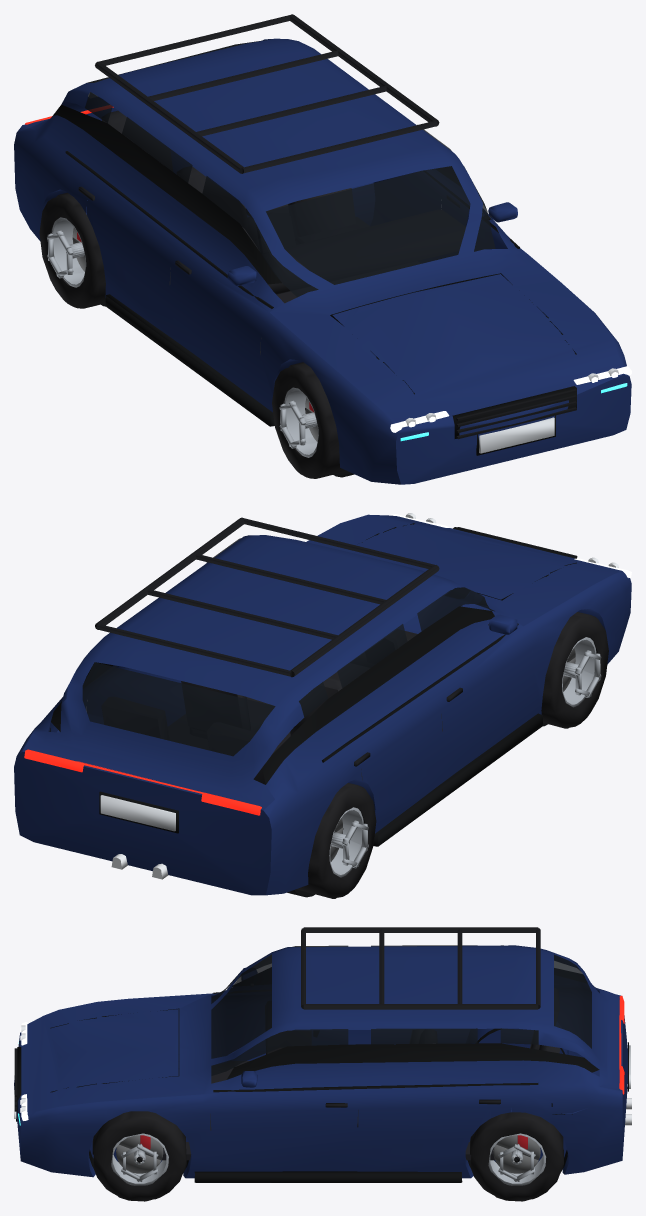
File: tuner-lod.glb
3 views of the same model, one above another, from view 1: azimuth 30°, elevation 25°; view 2: azimuth 150°, elevation 25°; view 3: azimuth 270°, elevation 25° (orthographic). The views are drawn at different scales.
Parts seen in each view (by area): view 1: Body, WheelFL, WheelRL; view 2: Body, WheelRL, WheelFL; view 3: Body, WheelFR, WheelRR.
Part boxes in pixels (x1,y1,x2,y2): Body: [14, 14, 631, 484]; WheelFL: [272, 362, 347, 478]; WheelRL: [39, 192, 105, 308]; Body: [14, 513, 631, 897]; WheelRL: [296, 783, 376, 898]; WheelFL: [541, 612, 608, 728]; Body: [14, 927, 631, 1182]; WheelFR: [92, 1111, 186, 1201]; WheelRR: [470, 1112, 563, 1201].
Size of the model in its own units: 2.08 by 1.51 by 4.57.
